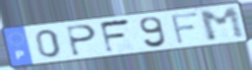0: (34, 28, 66, 59)
9: (139, 15, 168, 49)
F: (98, 17, 134, 55), (169, 11, 201, 46)
M: (197, 6, 249, 43)
P: (65, 23, 99, 58)
